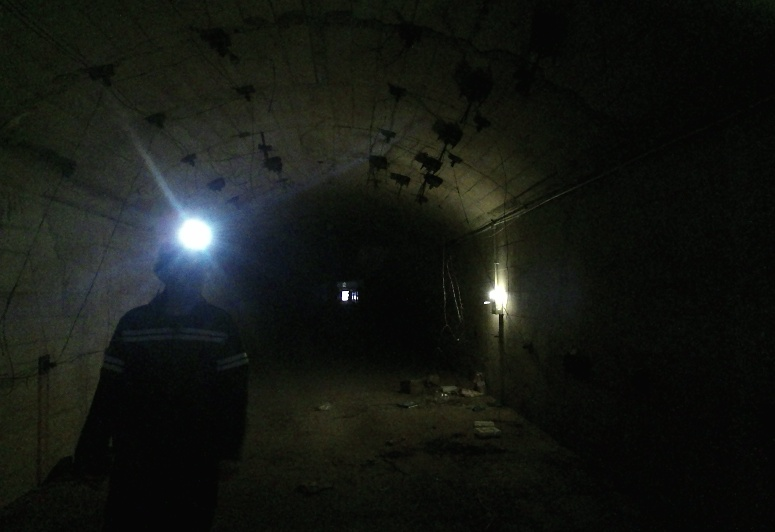person: (78, 227, 286, 532)
